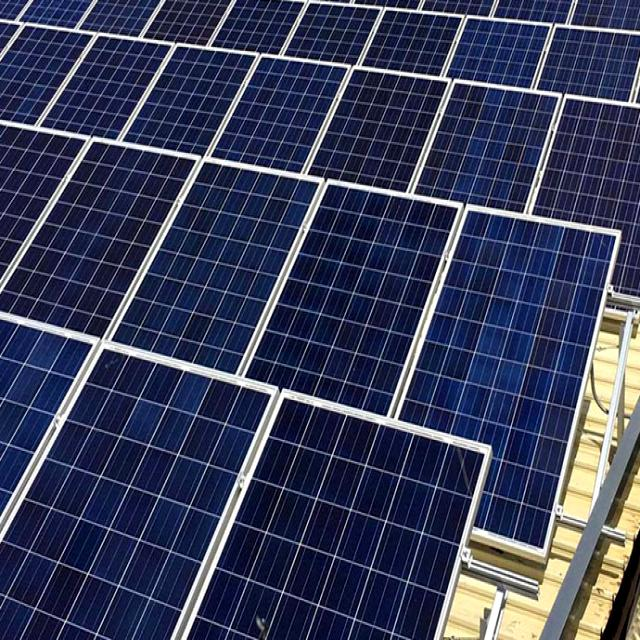crack: (2, 0, 640, 640), (162, 367, 538, 640), (356, 232, 622, 581), (0, 334, 288, 640), (188, 181, 498, 456), (168, 135, 347, 359)
